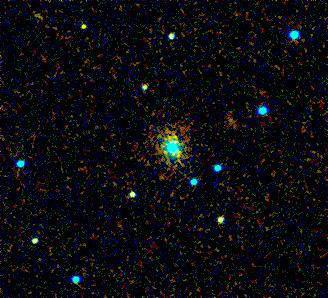star: (68, 11, 98, 41)
